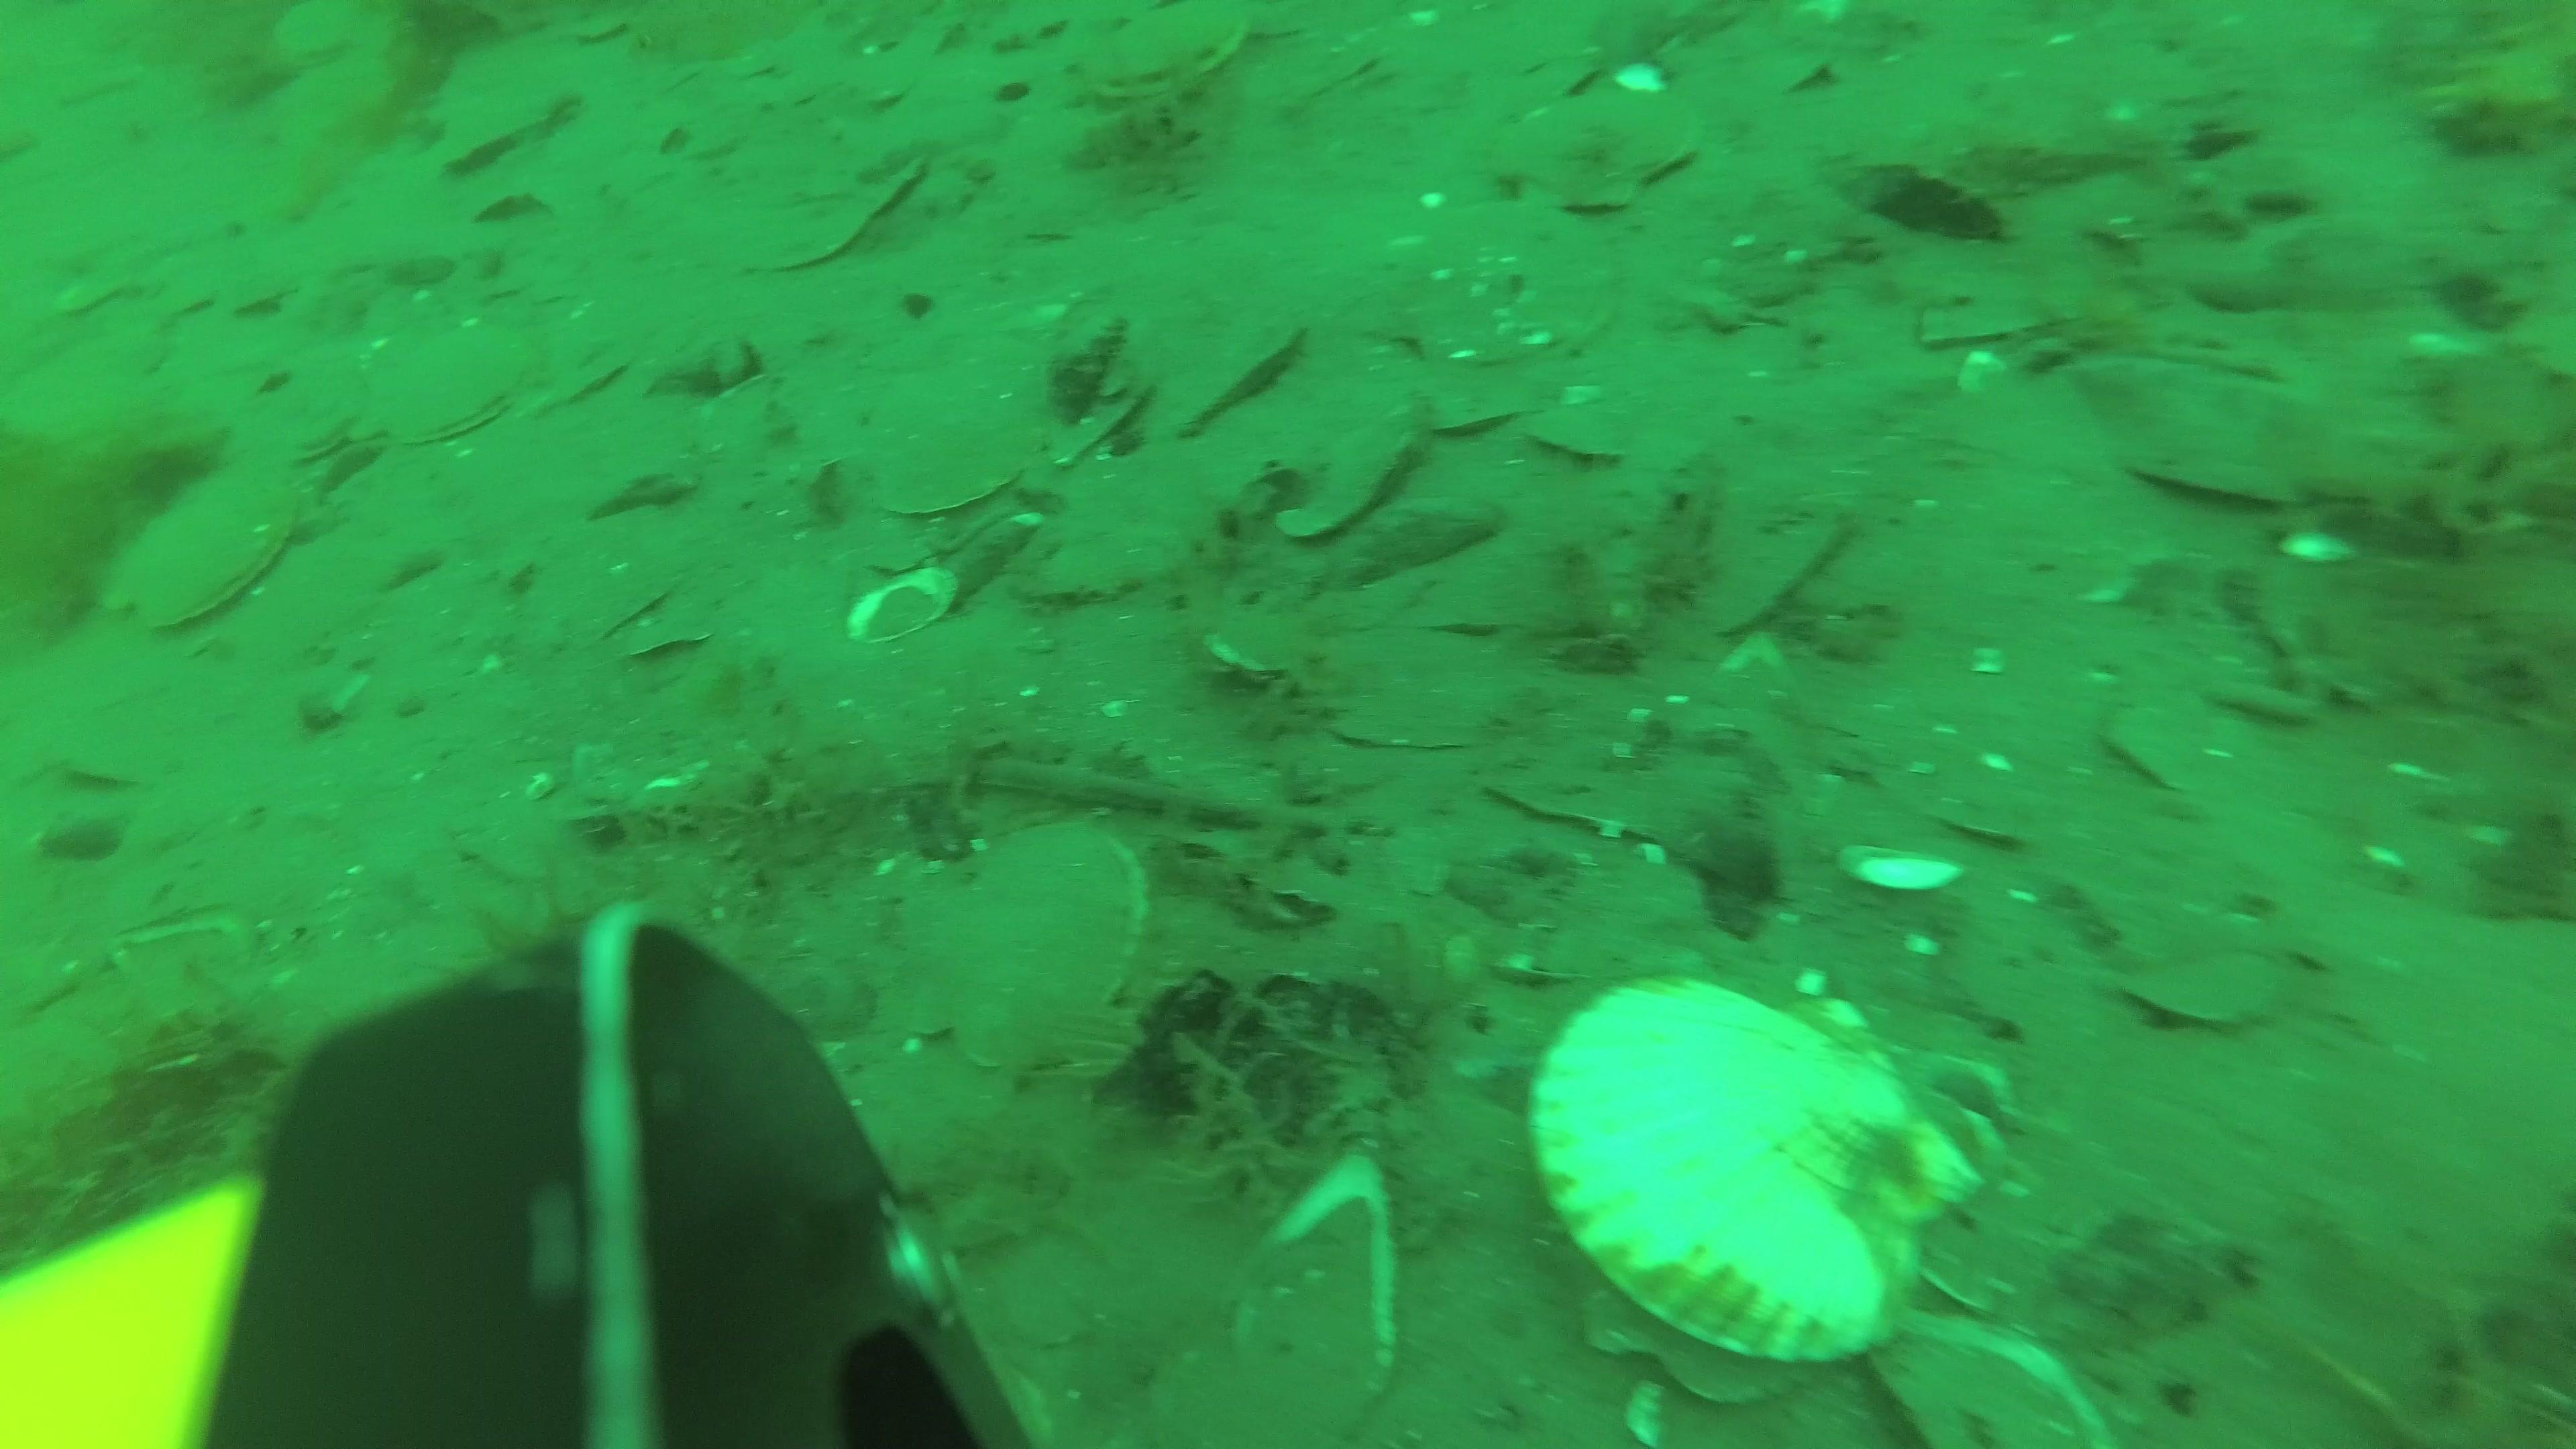scallop: (1522, 970, 1985, 1371), (881, 826, 1141, 1072), (1396, 207, 1621, 379), (101, 474, 294, 639), (1497, 85, 1702, 219), (872, 370, 1042, 529), (1247, 398, 1421, 529), (370, 334, 545, 455), (1072, 7, 1258, 106), (2125, 943, 2293, 1044), (1164, 317, 1302, 423), (1430, 366, 1541, 442), (1522, 396, 1642, 464), (288, 410, 359, 464)
